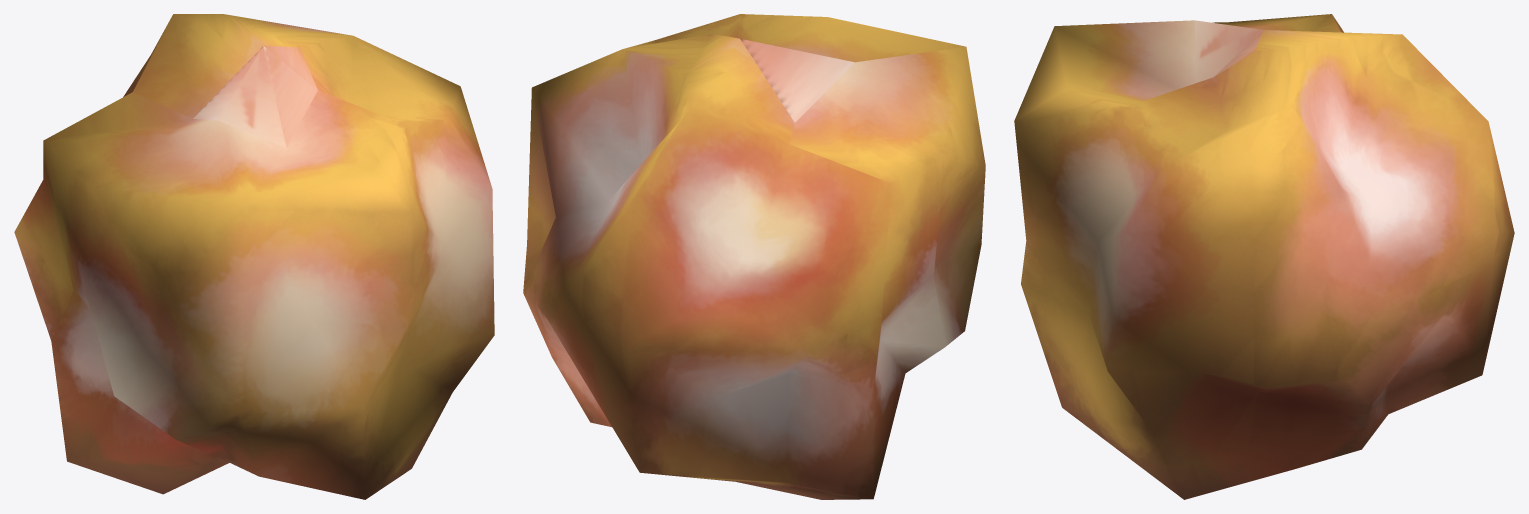
The model's file is Explosion.glb.
3 views of the same model, side by side, from view 1: azimuth 30°, elevation 25°; view 2: azimuth 150°, elevation 25°; view 3: azimuth 270°, elevation 25° (orthographic).
Visible parts, largest first — view 1: Sphere; view 2: Sphere; view 3: Sphere.
Part boxes in pixels (left/top/right/bottom): Sphere: left=14, top=14, right=494, bottom=499; Sphere: left=523, top=14, right=985, bottom=499; Sphere: left=1014, top=14, right=1514, bottom=499.
Size of the model in its own units: 1.17 by 1.21 by 1.27.
1 material, 1 textured.
